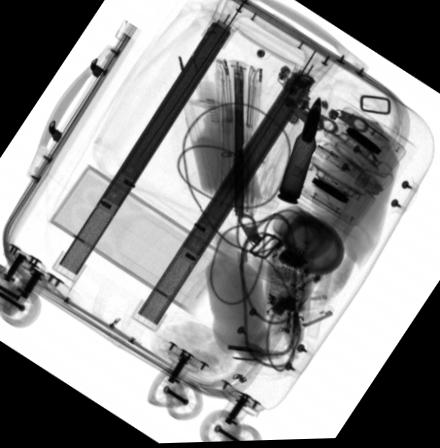Bullet: (275, 96, 320, 207)
